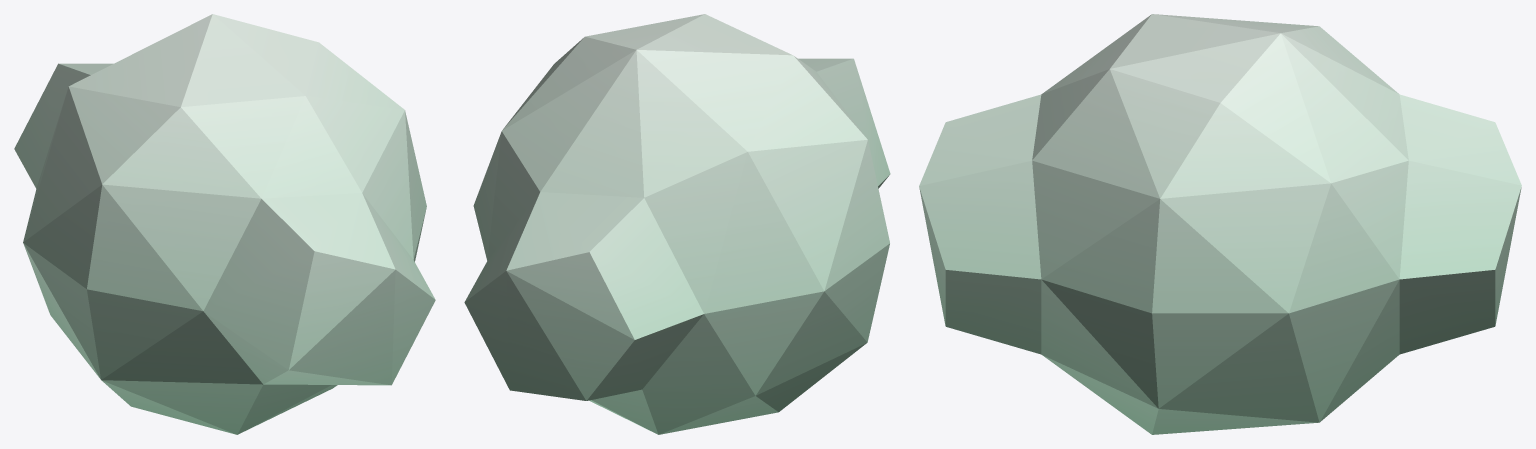
File: VeladoViento.fbx
The picture shows the model from 3 angles, left to right: view 1: azimuth 30°, elevation 25°; view 2: azimuth 150°, elevation 25°; view 3: azimuth 270°, elevation 25°; orthographic projection. The views are drawn at different scales.
Visible parts, largest first — view 1: Icosphere.004; view 2: Icosphere.004; view 3: Icosphere.004.
Part boxes in pixels (<box>): Icosphere.004: <box>14,14,435,434</box>; Icosphere.004: <box>464,14,890,434</box>; Icosphere.004: <box>919,14,1521,434</box>.
Size of the model in its own units: 190 by 199 by 272.
